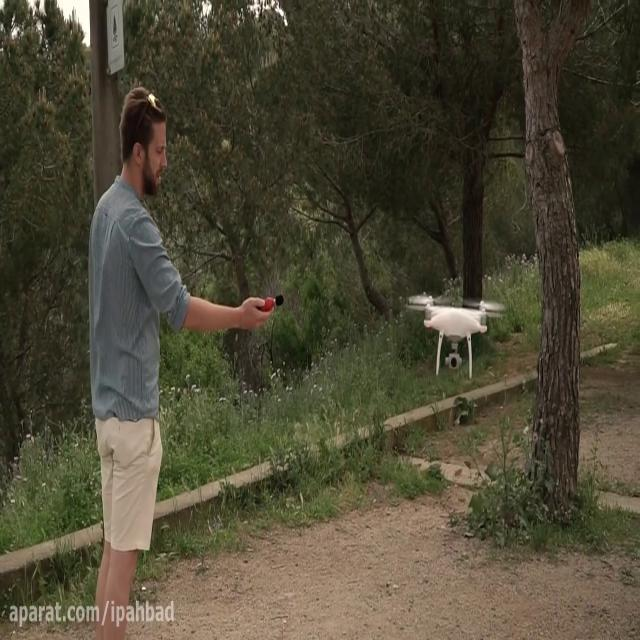drone: (407, 294, 508, 378)
